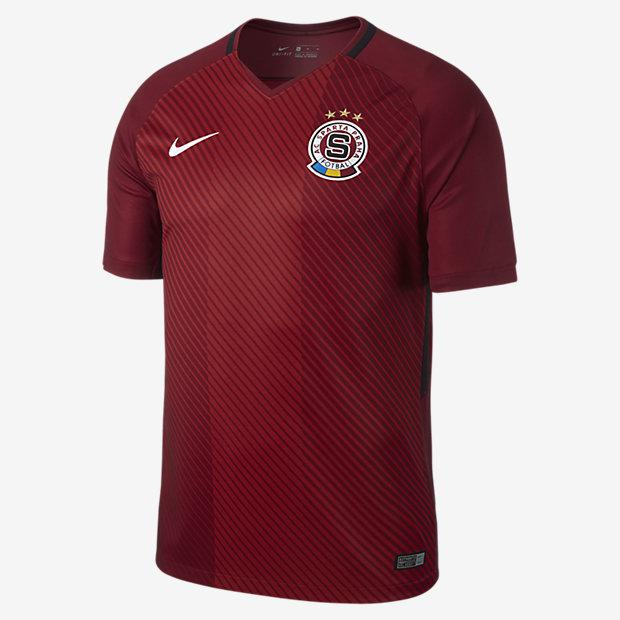teeshirt: (95, 20, 556, 620)
